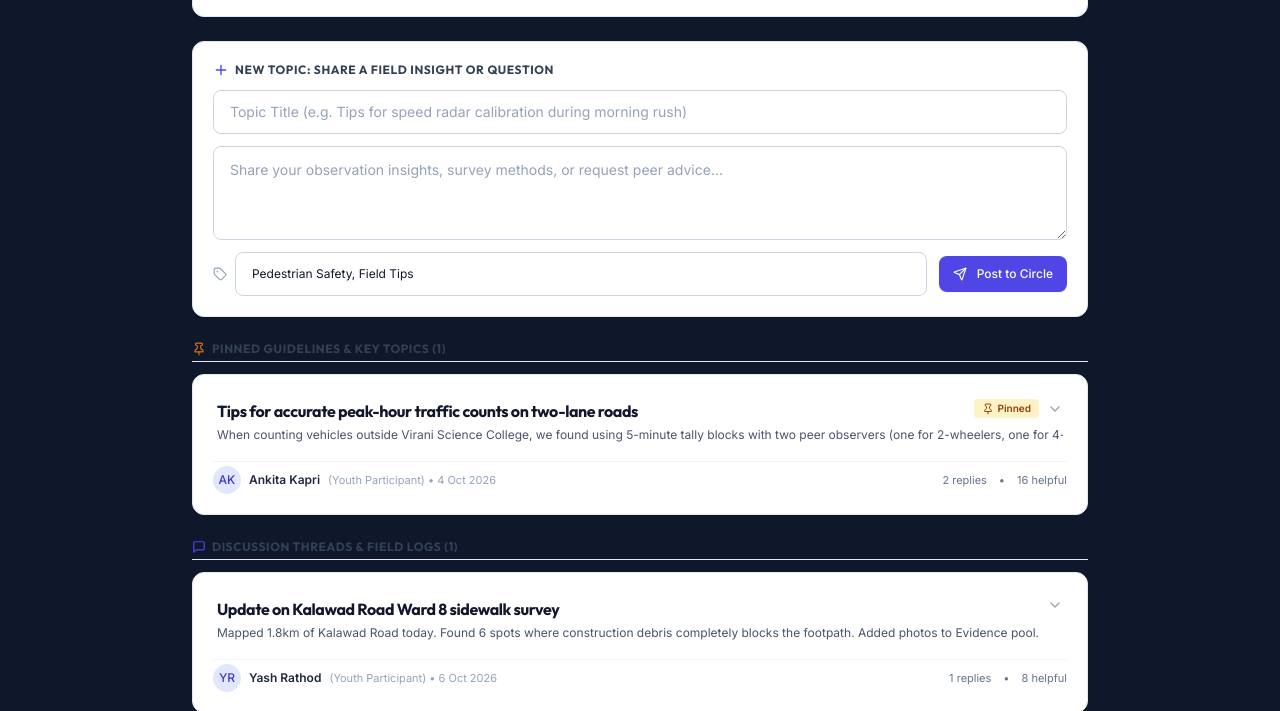
it: Community Post Reporting UI Tests › submitting a reason closes the modal and leaves the post reported
(page scrolled)
Check: the heading "Update on Kalawad Road Ward 8 sidewalk survey" is shown, box [217,597,560,621]
Click the button "Update on Kalawad Road Ward 8 sidewalk survey" at (388,609), box [213,593,1067,645]
(page scrolled)
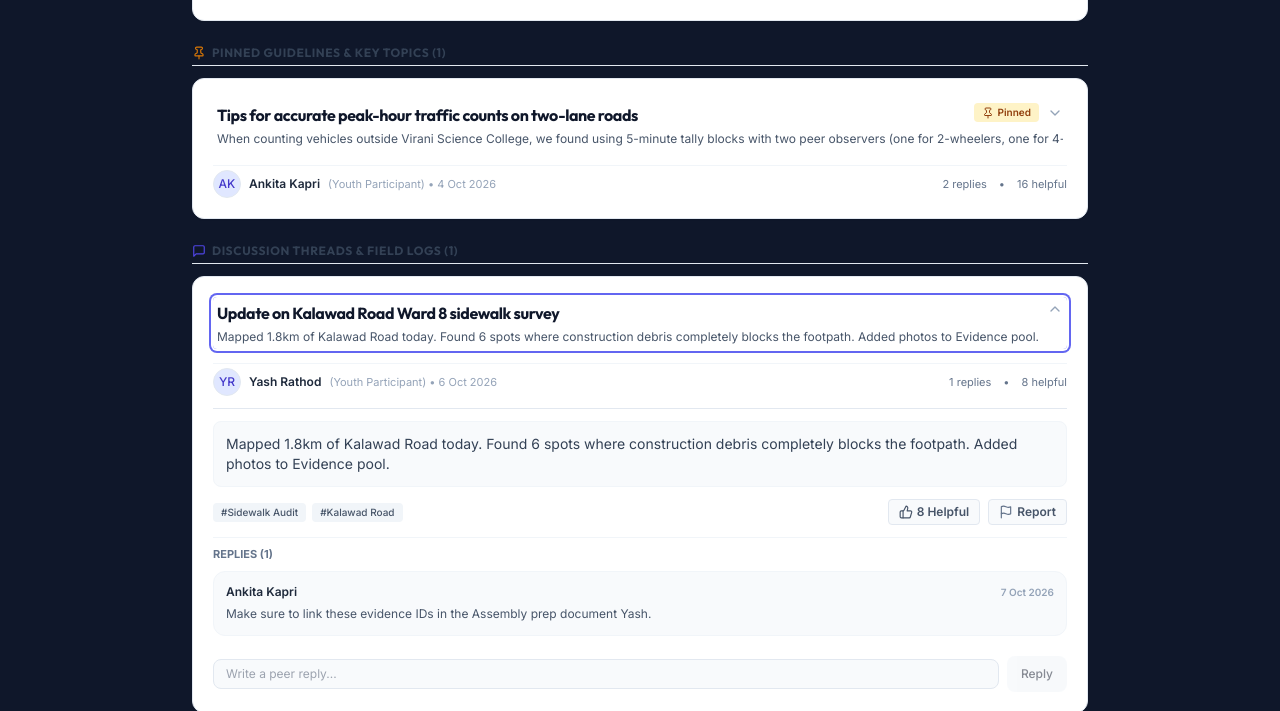
Click the button named "Report post: Update on Kalawad Road Ward 8 sidewalk survey" at (1028,512), box [988,499,1067,525]
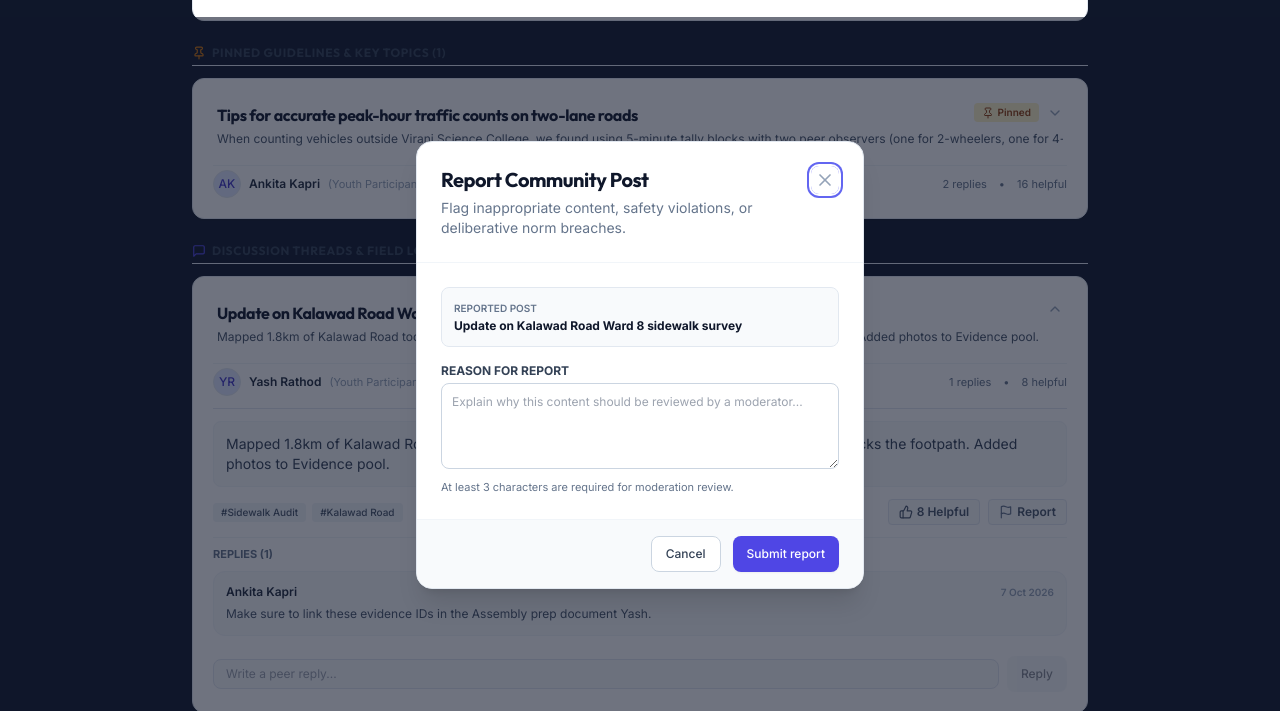
Check: the heading "Report Community Post" is shown, box [441,167,648,192]
Type "Misleading survey data without required permissions." into the text box labelled "Reason for report" at (640,426), box [441,383,839,469]
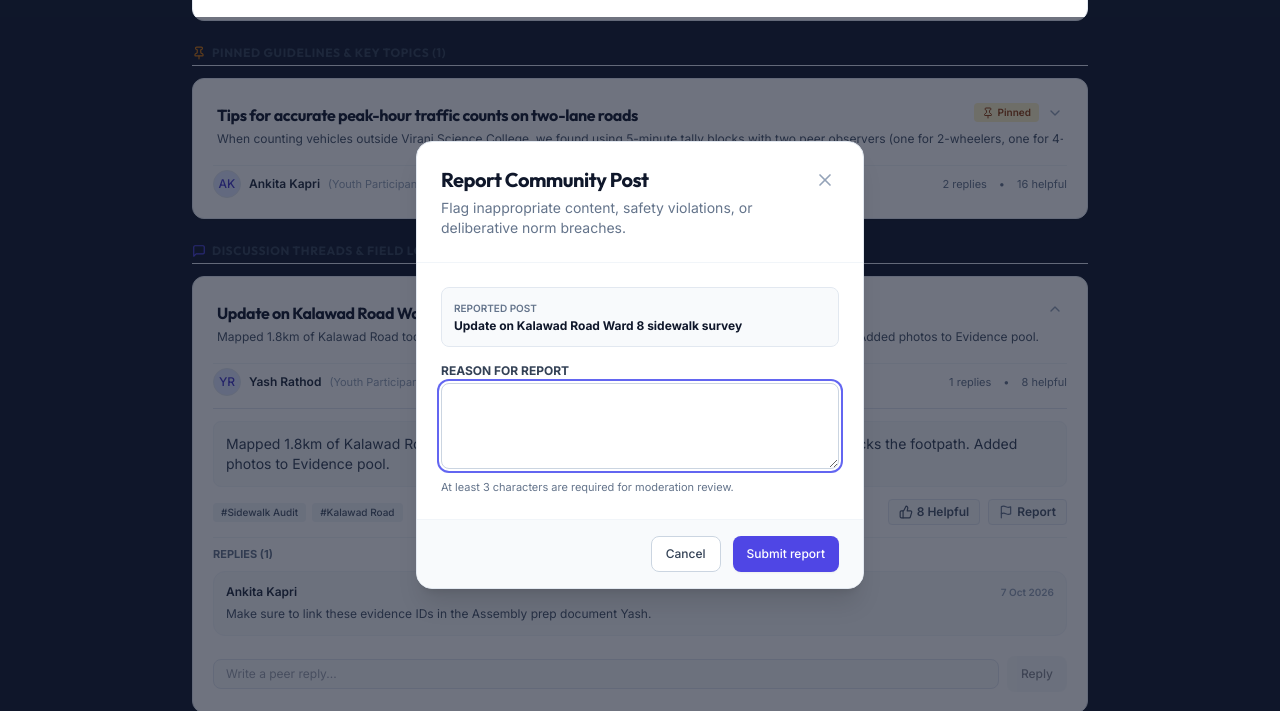
Click the button "Submit report" at (786,554), box [733,536,839,572]
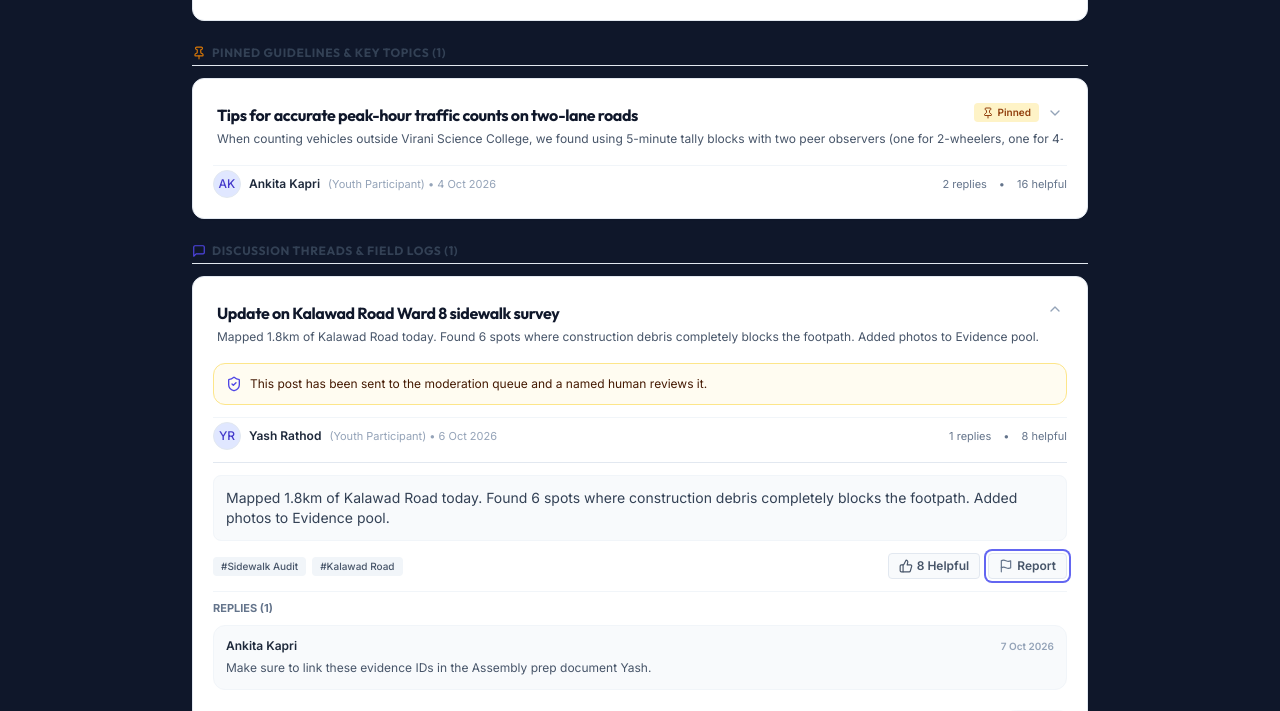
Check: the heading "Report Community Post" is gone
Check: the text "moderation queue" is shown, box [250,376,707,391]
